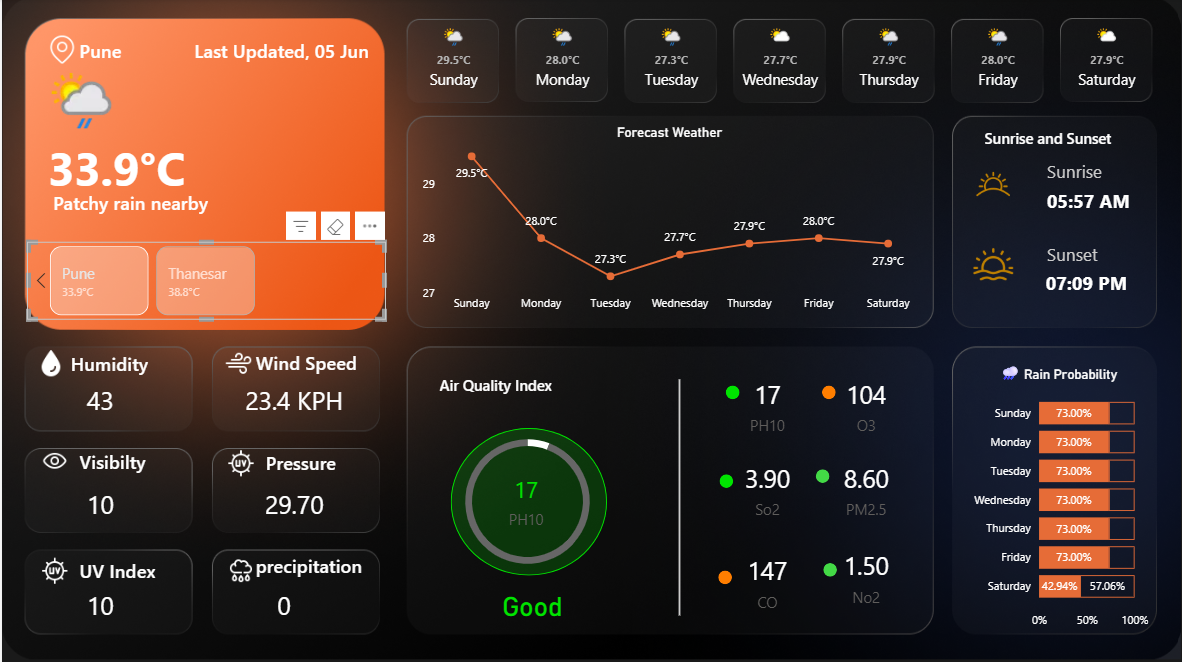

This screenshot's page, from the dashboard's own definition file:
{"tool":"powerbi","page":{"name":"Page 1","canvas":[1280,720],"ordinal":0},"visuals":[{"type":"shape","box":[486.4,466,169.3,159.9],"z":0},{"type":"advancedSlicerVisual","fields":{"Values":["Location.location.name"],"Label":["_measures.curr_temp_c"]},"box":[27.1,264.2,388.8,85.4],"z":1000},{"type":"shape","box":[50.1,127.4,250.6,112.4],"z":2000},{"type":"shape","box":[55.5,165.3,250.6,112.4],"z":3000},{"type":"shape","box":[83.7,32.9,175.6,46.7],"z":4000},{"type":"shape","box":[208.6,32.9,194.9,48],"z":5000},{"type":"image","box":[42.5,41.2,46.7,30.2],"z":6000},{"type":"cardVisual","fields":{"Data":["Min(current_data.current.condition.icon)"]},"box":[31.2,52.8,111.1,112.4],"z":7000},{"type":"image","box":[31.6,485.8,52.1,30.2],"z":8000},{"type":"shape","box":[83.7,483,82.3,35.7],"z":9000},{"type":"shape","box":[74.1,377.4,100.2,35.7],"z":10000},{"type":"image","box":[27.4,380.1,52.1,30.2],"z":11000},{"type":"image","box":[31.6,605.1,52.1,30.2],"z":12000},{"type":"image","box":[230.5,380.1,52.1,30.2],"z":13000},{"type":"image","box":[233.3,488.5,52.1,30.2],"z":14000},{"type":"image","box":[233.3,605.1,52.1,30.2],"z":15000},{"type":"shape","box":[83.7,605.1,107,30.2],"z":16000},{"type":"shape","box":[274.4,377.4,129,32.9],"z":17000},{"type":"shape","box":[285.4,483,82.3,39.8],"z":18000},{"type":"shape","box":[274.4,590.1,129,48],"z":19000},{"type":"card","fields":{"Values":["Sum(current_data.current.humidity)"]},"box":[31.6,382.8,150.9,107],"z":20000},{"type":"card","fields":{"Values":["_measures.wind_speed"]},"box":[241.5,382.8,150.9,107],"z":21000},{"type":"card","fields":{"Values":["Sum(current_data.current.pressure_in)"]},"box":[273.1,499.5,86.4,100.2],"z":22000},{"type":"card","fields":{"Values":["Sum(current_data.current.vis_km)"]},"box":[68.6,516,75.5,68.6],"z":23000},{"type":"card","fields":{"Values":["Sum(current_data.current.uv)"]},"box":[31.6,605.1,150.9,107],"z":24000},{"type":"card","fields":{"Values":["Sum(current_data.current.precip_in)"]},"box":[230.5,605.1,150.9,107],"z":25000},{"type":"advancedSlicerVisual","fields":{"Values":["forcast_day_data.Day2_nm"]},"box":[429.5,23,833.2,93.5],"z":26000},{"type":"lineChart","title":"Forecast Weather","fields":{"Y":["Sum(forcast_day_data.forecast.forecastday.day.avgtemp_c)"],"Category":["forcast_day_data.Day2_nm"]},"box":[451.1,136.8,544.6,212.7],"z":27000},{"type":"shape","box":[1064.9,127.4,153.1,47.4],"z":28000},{"type":"shape","box":[1132.6,185.6,115.2,66.4],"z":29000},{"type":"shape","box":[1131.2,275,115.2,66.4],"z":30000},{"type":"shape","box":[1132.6,154.4,115.2,66.4],"z":31000},{"type":"shape","box":[1132.6,243.9,115.2,66.4],"z":32000},{"type":"image","box":[1050,174.8,48.8,54.2],"z":33000},{"type":"image","box":[1043.2,266.9,62.3,43.4],"z":34000},{"type":"hundredPercentStackedBarChart","title":"🌧️ Rain Probability","fields":{"Y":["Sum(current_data.current.chance_of_rain)","current_data.left_value_rain"],"Category":["forcast_day_data.Day2_nm"]},"box":[1043.2,395.6,204.6,296.7],"z":35000},{"type":"shape","box":[474.2,395.6,153.1,47.4],"z":36000},{"type":"card","fields":{"Values":["Sum(current_data.current.air_quality.pm10)"]},"box":[770.9,399.7,117.9,84],"z":37000},{"type":"card","fields":{"Values":["Sum(current_data.current.air_quality.co)"]},"box":[770.9,590.7,117.9,84],"z":38000},{"type":"card","fields":{"Values":["Sum(current_data.current.air_quality.pm2_5)"]},"box":[877.9,490.4,117.9,84],"z":39000},{"type":"card","fields":{"Values":["Sum(current_data.current.air_quality.no2)"]},"box":[877.9,585.3,117.9,84],"z":40000},{"type":"card","fields":{"Values":["Sum(current_data.current.air_quality.so2)"]},"box":[770.9,490.4,117.9,84],"z":41000},{"type":"card","fields":{"Values":["Sum(current_data.current.air_quality.o3)"]},"box":[877.9,399.7,117.9,84],"z":42000},{"type":"shape","box":[784.4,420,15,15],"z":43000},{"type":"shape","box":[776.3,620.5,14.9,14.9],"z":44000},{"type":"shape","box":[777.6,516.2,14.9,14.9],"z":45000},{"type":"shape","box":[888.7,420,14.9,14.9],"z":46000},{"type":"shape","box":[882,510.8,14.9,14.9],"z":47000},{"type":"shape","box":[890.1,612.4,14.9,14.9],"z":48000},{"type":"shape","box":[677.4,413.2,113.8,256.1],"z":49000},{"type":"donutChart","fields":{"Y":["Sum(current_data.current.air_quality.pm10)","maxvalue.left_value_pm10"]},"box":[429.5,456.6,280.4,178.8],"z":50000},{"type":"card","fields":{"Values":["Sum(current_data.current.air_quality.pm10)"]},"box":[509.4,502.6,117.9,84],"z":51000},{"type":"card","fields":{"Values":["maxvalue.AQI_STATUSAQI Status Text"]},"box":[451.1,605.6,247.9,104.3],"z":52000}]}

Visuals, with their boxes in screenshot pixels (x1, y1, x2, y2), scaled from the page's 1280x720 canvas onto the 1182x662 screenshot:
shape: 449, 428, 605, 575
advancedSlicerVisual - Location.location.name x _measures.curr_temp_c: 25, 243, 384, 321
shape: 46, 117, 278, 220
shape: 51, 152, 283, 255
shape: 77, 30, 239, 73
shape: 193, 30, 373, 74
image: 39, 38, 82, 66
cardVisual - Min(current_data.current.condition.icon): 29, 49, 131, 152
image: 29, 447, 77, 474
shape: 77, 444, 153, 477
shape: 68, 347, 161, 380
image: 25, 349, 73, 377
image: 29, 556, 77, 584
image: 213, 349, 261, 377
image: 215, 449, 264, 477
image: 215, 556, 264, 584
shape: 77, 556, 176, 584
shape: 253, 347, 373, 377
shape: 264, 444, 340, 481
shape: 253, 543, 373, 587
card - Sum(current_data.current.humidity): 29, 352, 169, 450
card - _measures.wind_speed: 223, 352, 362, 450
card - Sum(current_data.current.pressure_in): 252, 459, 332, 551
card - Sum(current_data.current.vis_km): 63, 474, 133, 538
card - Sum(current_data.current.uv): 29, 556, 169, 655
card - Sum(current_data.current.precip_in): 213, 556, 352, 655
advancedSlicerVisual - forcast_day_data.Day2_nm: 397, 21, 1166, 107
"Forecast Weather" lineChart: 417, 126, 919, 321
shape: 983, 117, 1125, 161
shape: 1046, 171, 1152, 232
shape: 1045, 253, 1151, 314
shape: 1046, 142, 1152, 203
shape: 1046, 224, 1152, 285
image: 970, 161, 1015, 211
image: 963, 245, 1021, 285
"🌧️ Rain Probability" hundredPercentStackedBarChart: 963, 364, 1152, 637
shape: 438, 364, 579, 407
card - Sum(current_data.current.air_quality.pm10): 712, 368, 821, 445
card - Sum(current_data.current.air_quality.co): 712, 543, 821, 620
card - Sum(current_data.current.air_quality.pm2_5): 811, 451, 920, 528
card - Sum(current_data.current.air_quality.no2): 811, 538, 920, 615
card - Sum(current_data.current.air_quality.so2): 712, 451, 821, 528
card - Sum(current_data.current.air_quality.o3): 811, 368, 920, 445
shape: 724, 386, 738, 400
shape: 717, 571, 731, 584
shape: 718, 475, 732, 488
shape: 821, 386, 834, 400
shape: 814, 470, 828, 483
shape: 822, 563, 836, 577
shape: 626, 380, 731, 615
donutChart - Sum(current_data.current.air_quality.pm10) x maxvalue.left_value_pm10: 397, 420, 656, 584
card - Sum(current_data.current.air_quality.pm10): 470, 462, 579, 539
card - maxvalue.AQI_STATUSAQI Status Text: 417, 557, 645, 653
